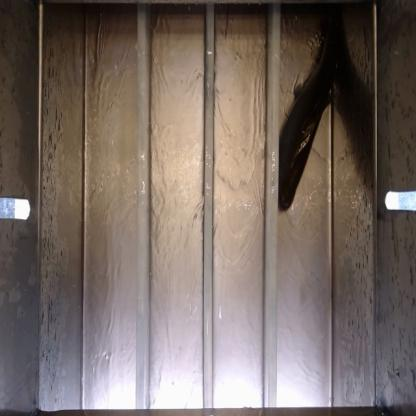pezw: (280, 38, 334, 220)
